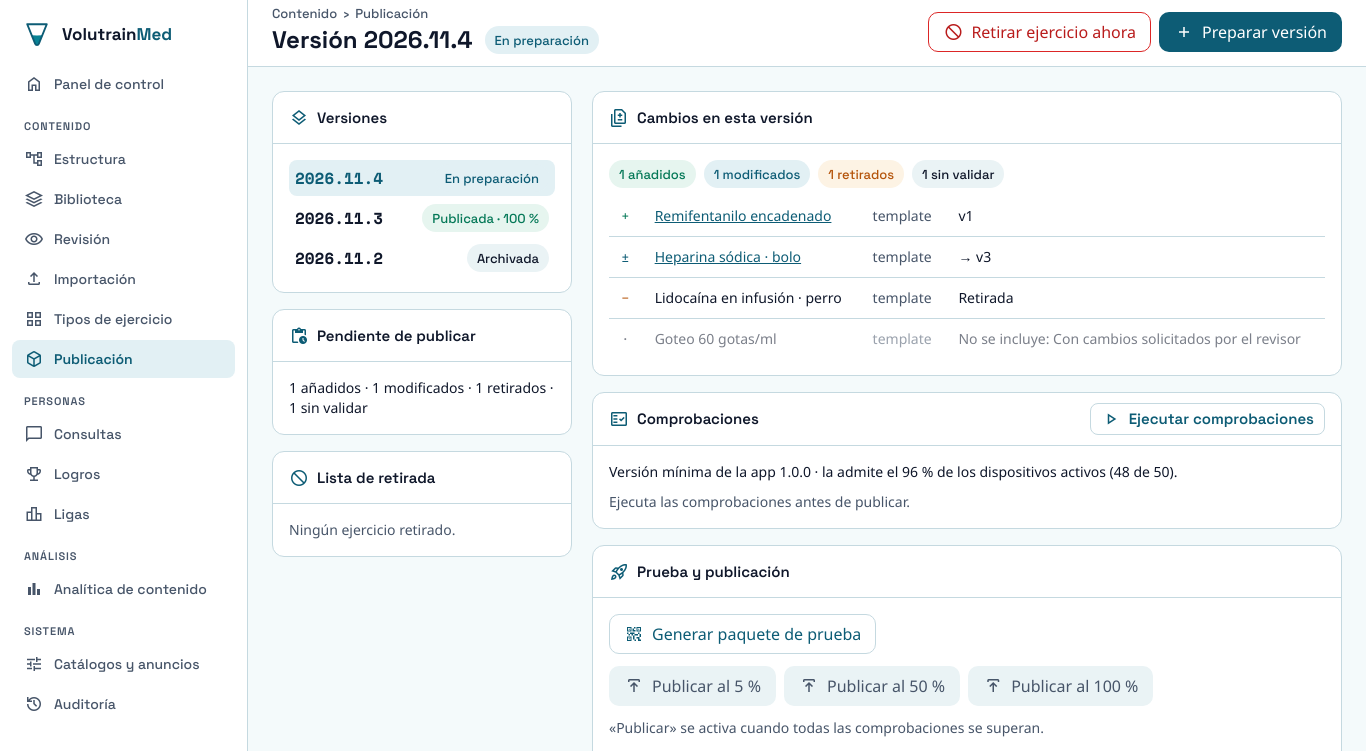
Scenario: B17 · versionado y publicación › Comprobaciones superadas: la acción «Publicar» queda disponible
The image size is (1366, 751).
Expected: the button "Publicar al 5 %" is disabled, [609, 666, 776, 706]
Click the button "Ejecutar comprobaciones" at (1207, 419), box [1090, 403, 1325, 435]
(page scrolled)
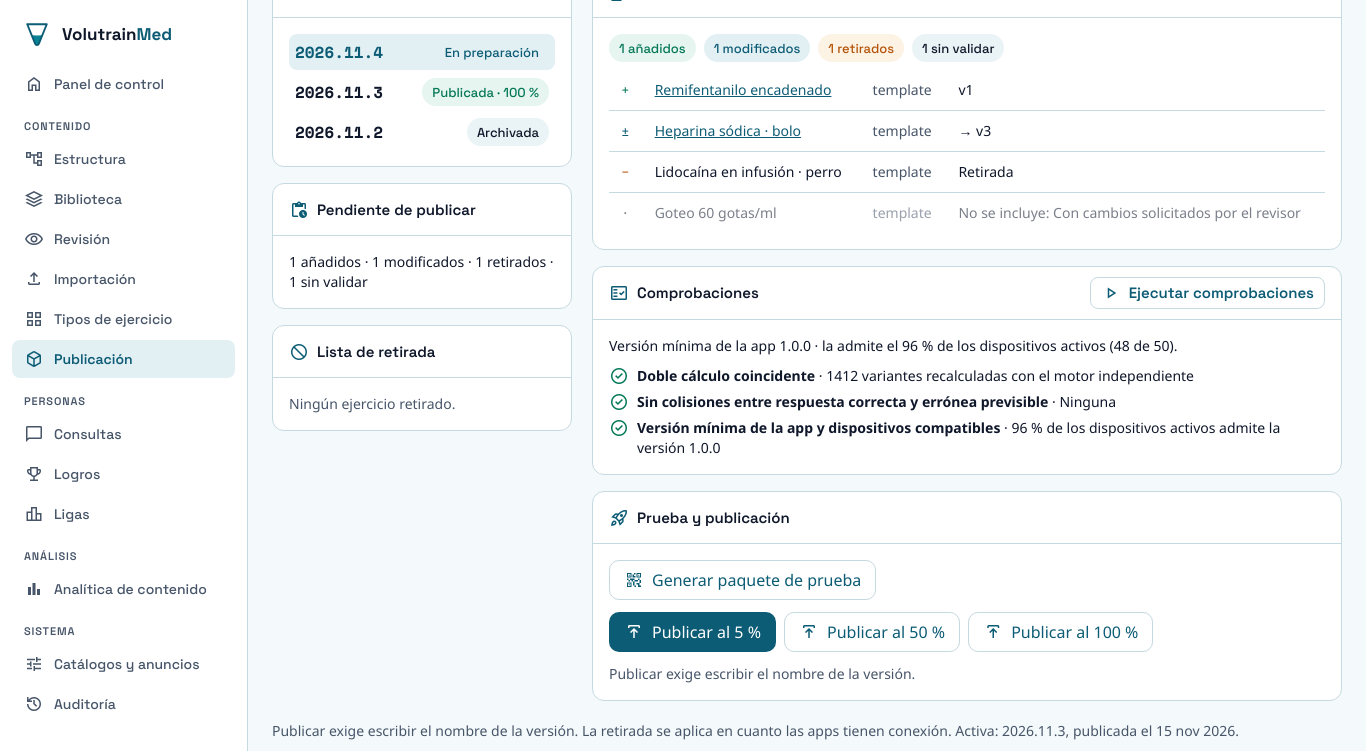
Now the button "Publicar al 5 %" is enabled, box [609, 612, 776, 652]
Now the button "Publicar al 100 %" is enabled, box [968, 612, 1153, 652]
